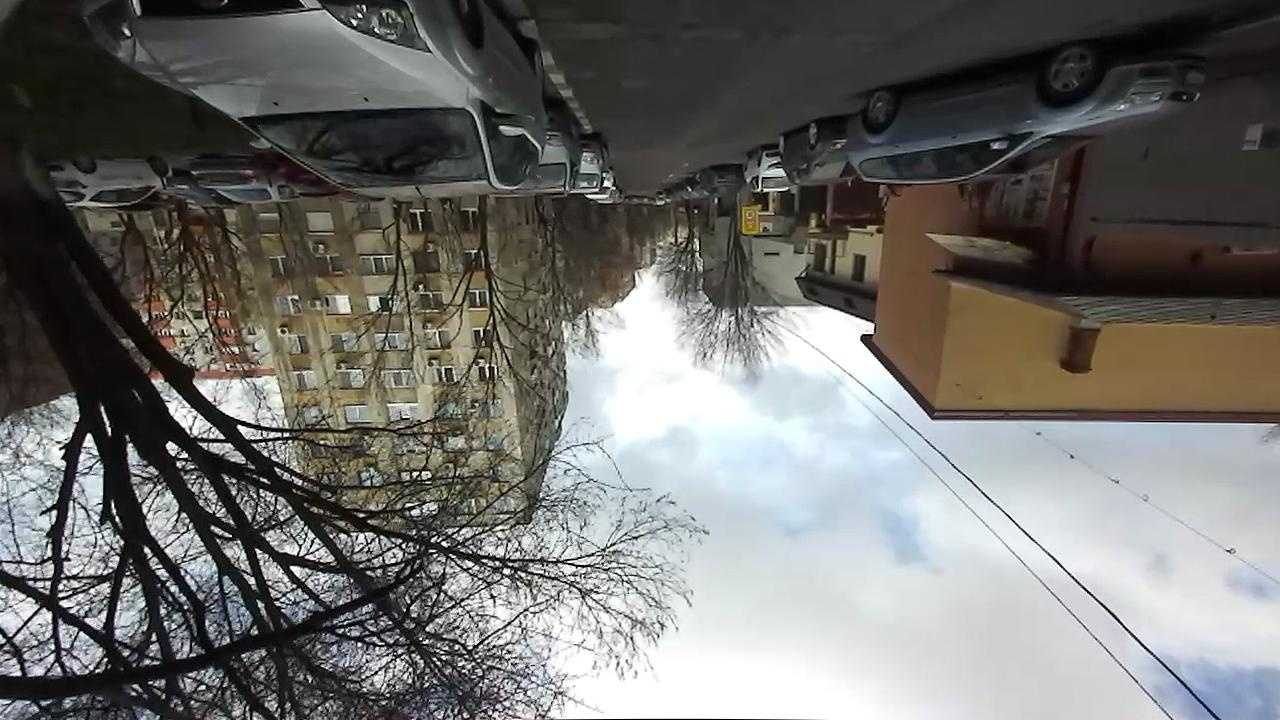pothole: (628, 18, 703, 43)
